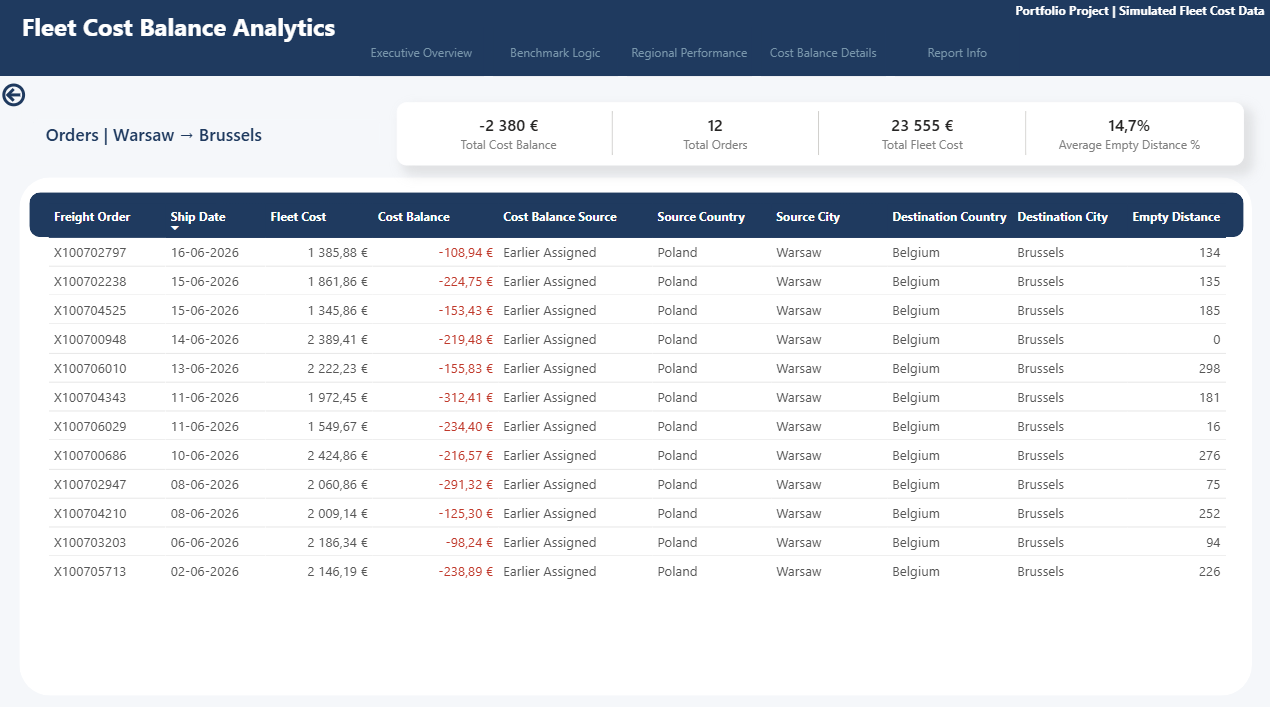

Layout of this report page (visuals, bound fields, positions):
{"tool":"powerbi","page":{"name":"Orders","canvas":[1280,720],"ordinal":7},"visuals":[{"type":"shape","box":[0,0,1280.3,80],"z":0},{"type":"textbox","box":[19.2,10,332.1,67.2],"z":1000},{"type":"textbox","box":[1012.4,0,267.6,39.8],"z":2000},{"type":"pageNavigator","box":[360.9,31,661.4,49.4],"z":3000},{"type":"shape","box":[21.7,181.4,1232.9,518.6],"z":4000},{"type":"shape","box":[31,196.4,1214.5,45],"z":5000},{"type":"tableEx","fields":{"Values":["fact_transport_orders.freight_order_id","fact_transport_orders.ship_date","_measures.Total DF Cost","_measures.Total Cost Balance","dim_cost_balance_source.cost_balance_source","dim_route.source_country","dim_route.source_city","dim_route.destination_country","dim_route.destination_city","fact_transport_orders.empty_distance_km"]},"box":[50.3,207.1,1204.3,468.6],"z":6000},{"type":"cardVisual","fields":{"Data":["_measures.Selected Route Drillthrough Title"]},"box":[18.6,105.7,380,62.9],"z":7000},{"type":"cardVisual","fields":{"Data":["_measures.Total Cost Balance","_measures.Total Orders","_measures.Total DF Cost","_measures.Average Empty Distance %"]},"box":[398.6,105.7,847.1,62.9],"z":8000},{"type":"actionButton","box":[0,80,31.4,37.1],"z":9000}]}

Visuals, with their boxes in screenshot pixels (x1, y1, x2, y2), scaled from the page's 1280x720 canvas onto the 1270x707 screenshot:
shape: (0, 0, 1269, 79)
textbox: (19, 10, 349, 76)
textbox: (1004, 0, 1269, 39)
pageNavigator: (358, 30, 1014, 79)
shape: (22, 178, 1245, 687)
shape: (31, 193, 1236, 237)
tableEx - fact_transport_orders.freight_order_id x fact_transport_orders.ship_date: (50, 203, 1245, 663)
cardVisual - _measures.Selected Route Drillthrough Title: (18, 104, 395, 166)
cardVisual - _measures.Total Cost Balance x _measures.Total Orders: (395, 104, 1236, 166)
actionButton: (0, 79, 31, 115)
